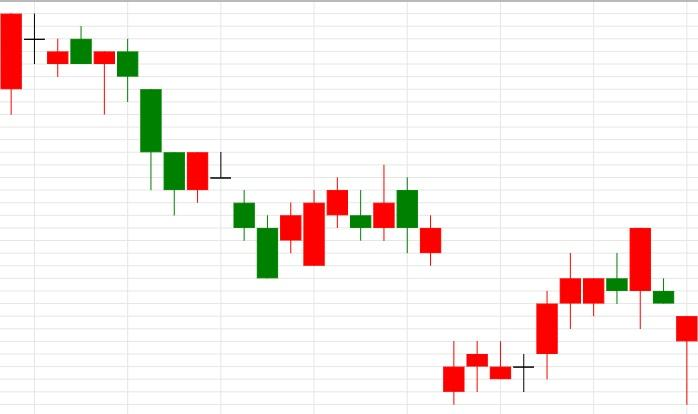hammer_rise: (629, 227, 698, 404)
